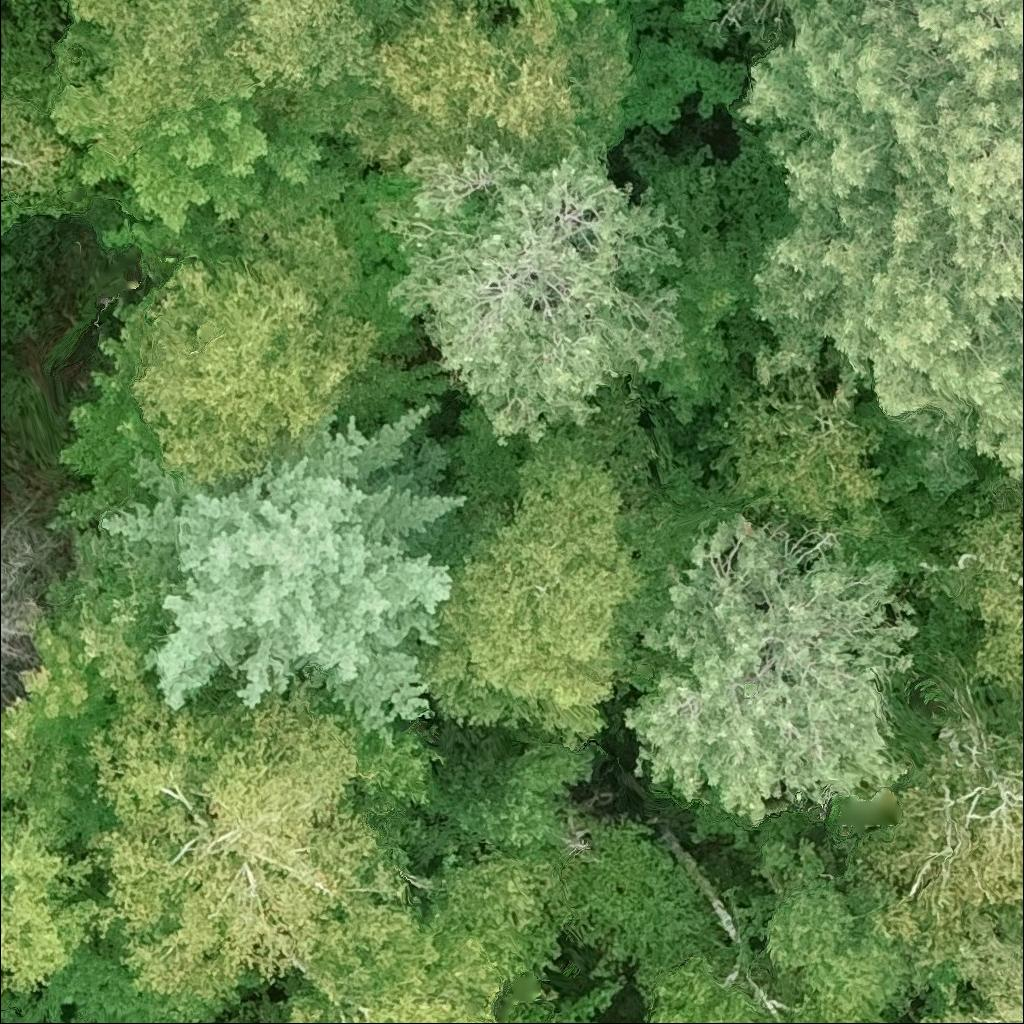crown: (737, 0, 1023, 484), (99, 403, 470, 744), (84, 681, 447, 1023), (370, 138, 690, 450), (621, 511, 925, 830), (405, 421, 652, 747), (127, 210, 383, 483), (829, 645, 1023, 989), (262, 842, 563, 1023), (340, 0, 641, 171), (0, 574, 169, 856), (96, 103, 352, 287), (37, 0, 258, 198), (710, 365, 888, 540), (216, 0, 405, 143), (930, 507, 1023, 756), (0, 805, 100, 995), (756, 836, 866, 978), (0, 490, 67, 702), (792, 923, 911, 1023), (923, 905, 1023, 1023), (644, 951, 780, 1023), (0, 88, 71, 193), (552, 0, 688, 17), (785, 1002, 837, 1023)
